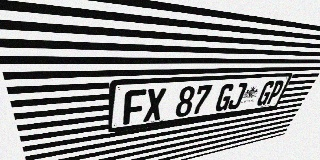7: (190, 85, 213, 115)
8: (174, 86, 197, 118)
F: (123, 89, 146, 125)
G: (213, 83, 236, 112), (255, 81, 276, 106)
J: (226, 82, 248, 110)
P: (265, 80, 286, 105)
X: (143, 88, 166, 122)
